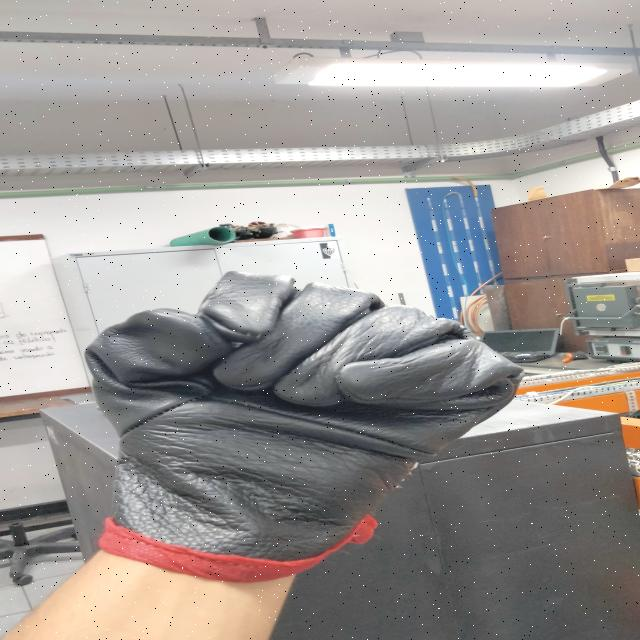Gloves: (62, 261, 512, 579)
